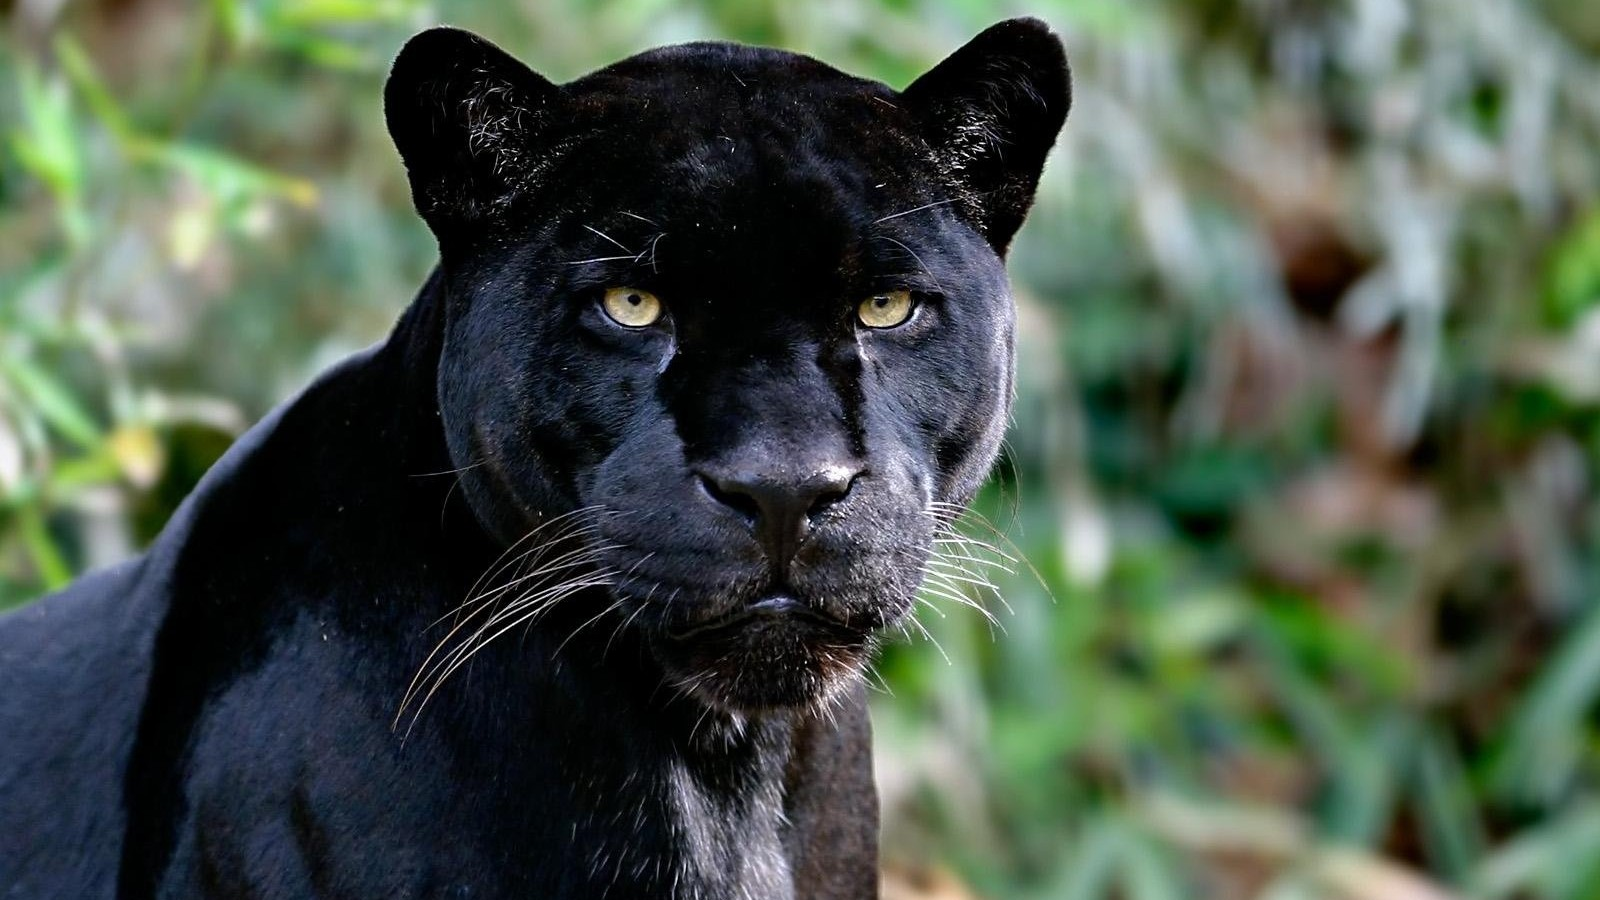panther: (335, 14, 1134, 759)
